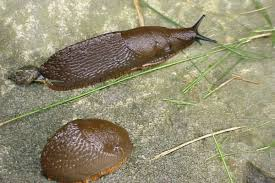slug: (47, 19, 204, 88), (42, 120, 136, 181)
